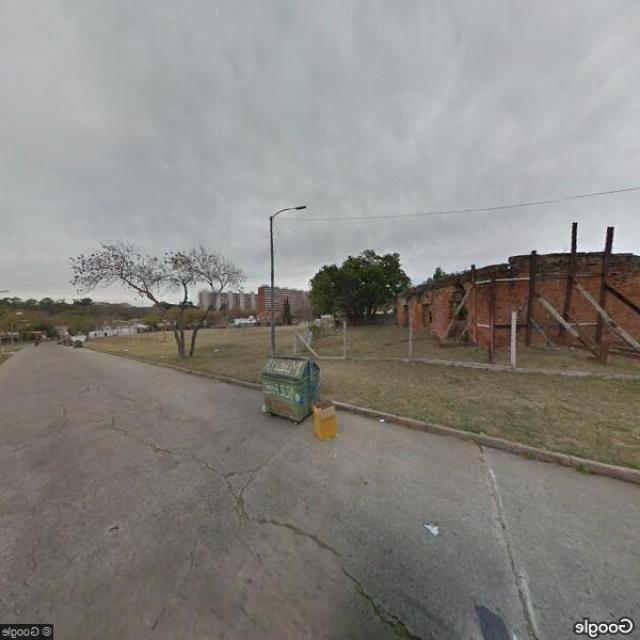garbage container: (250, 346, 328, 428)
